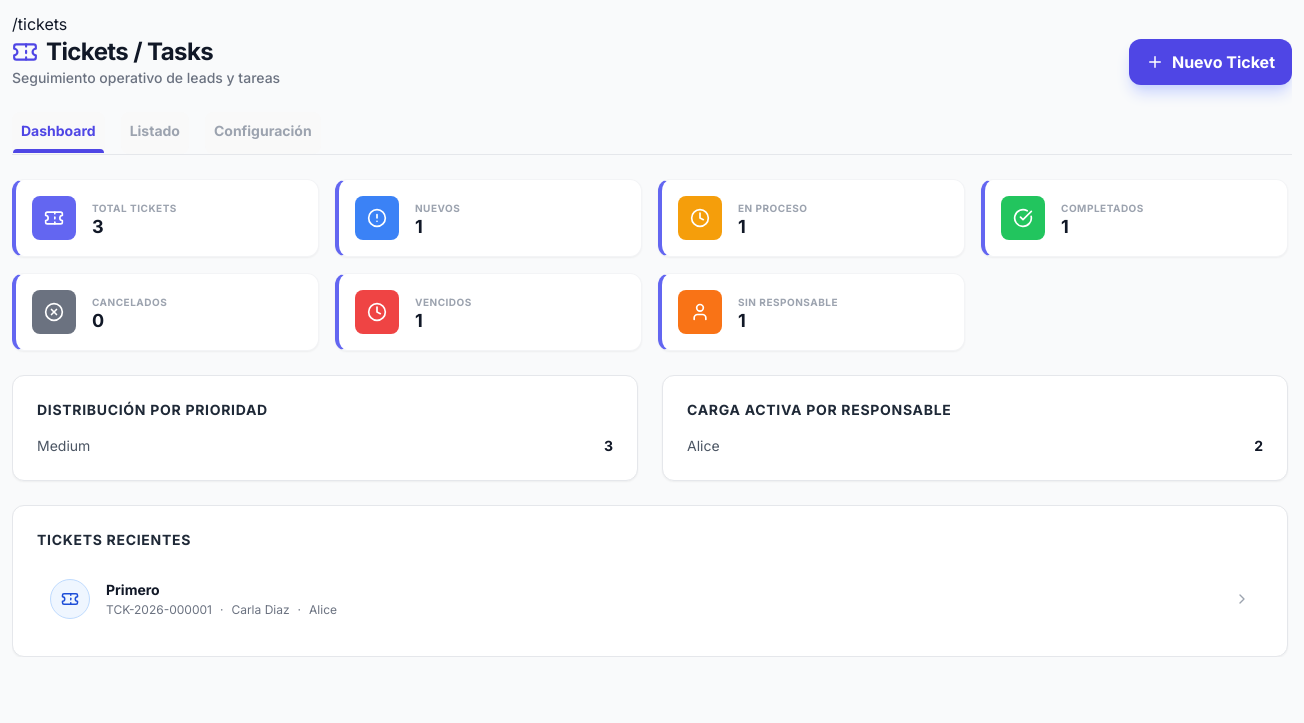
Test: Tickets — detail and assignment › loads the full ticket detail via the authorized endpoint, not the list row alone
The image size is (1304, 723).
Click the button "Listado" at (155, 133), box [121, 112, 189, 154]
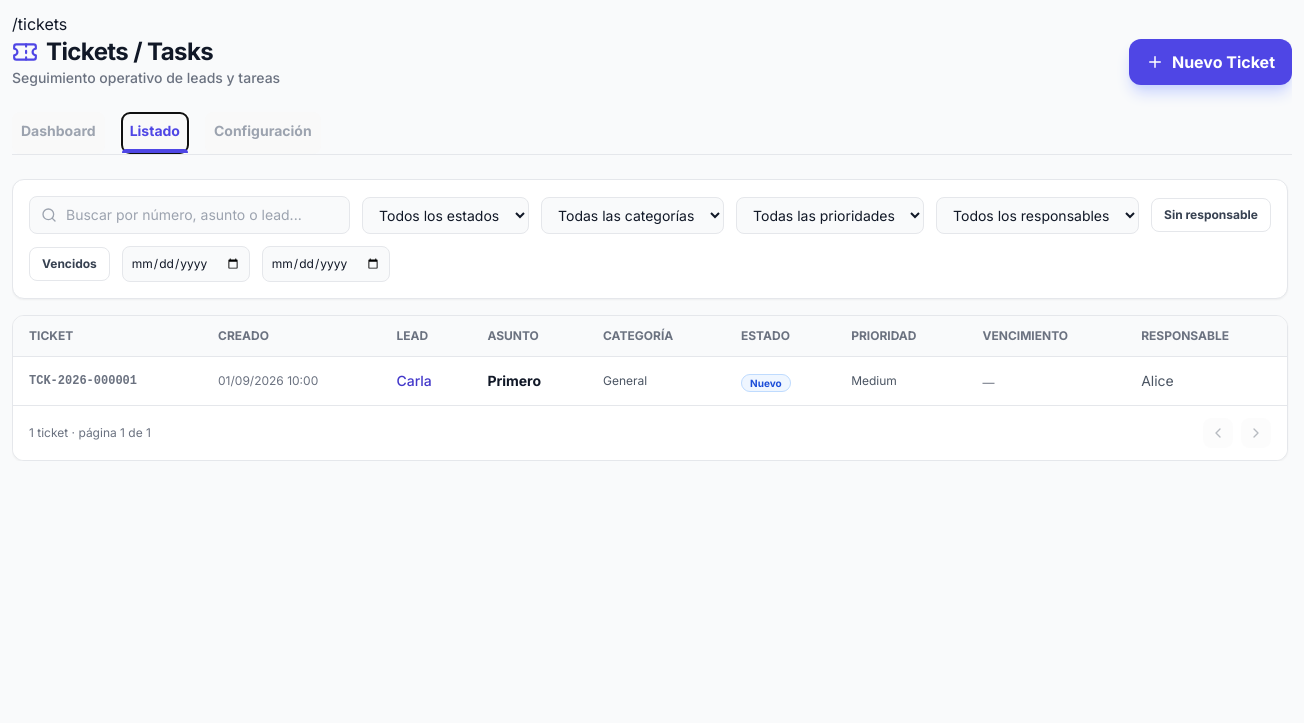
Click the text "Primero" at (529, 381), box [471, 357, 587, 405]
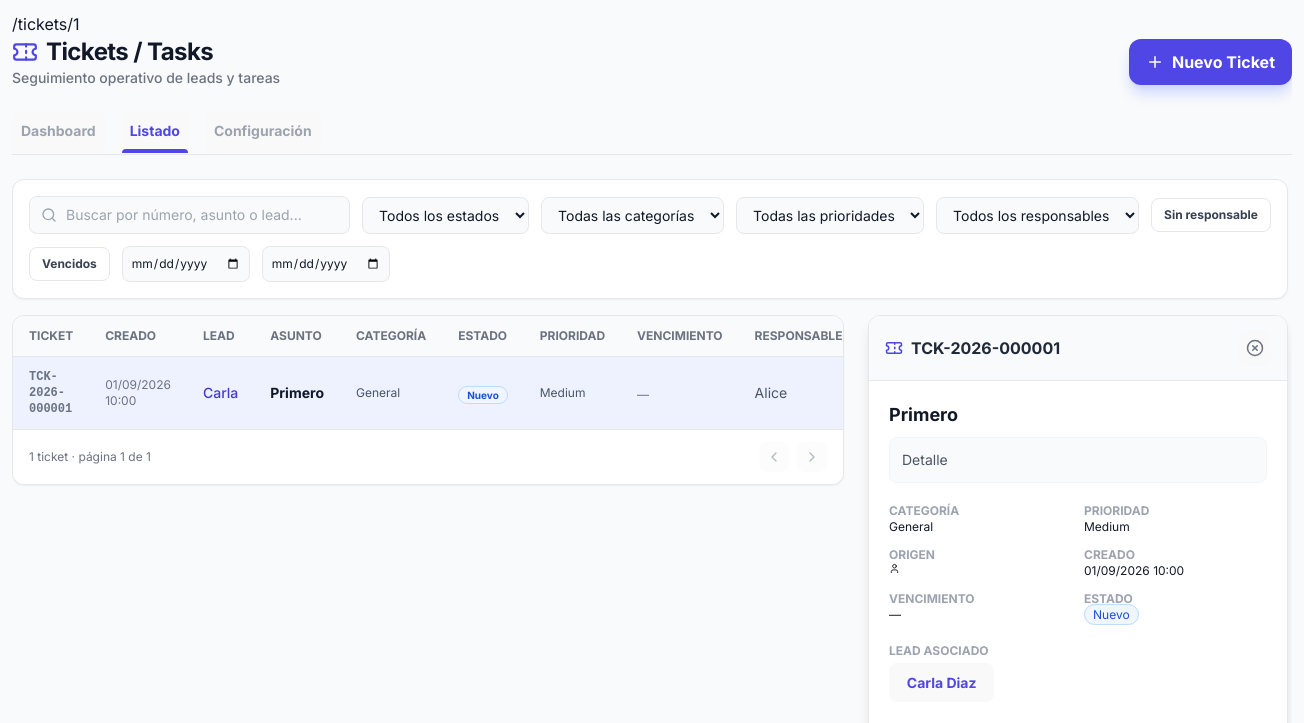
Now the text "Detalle" is shown, box [889, 437, 1267, 483]
